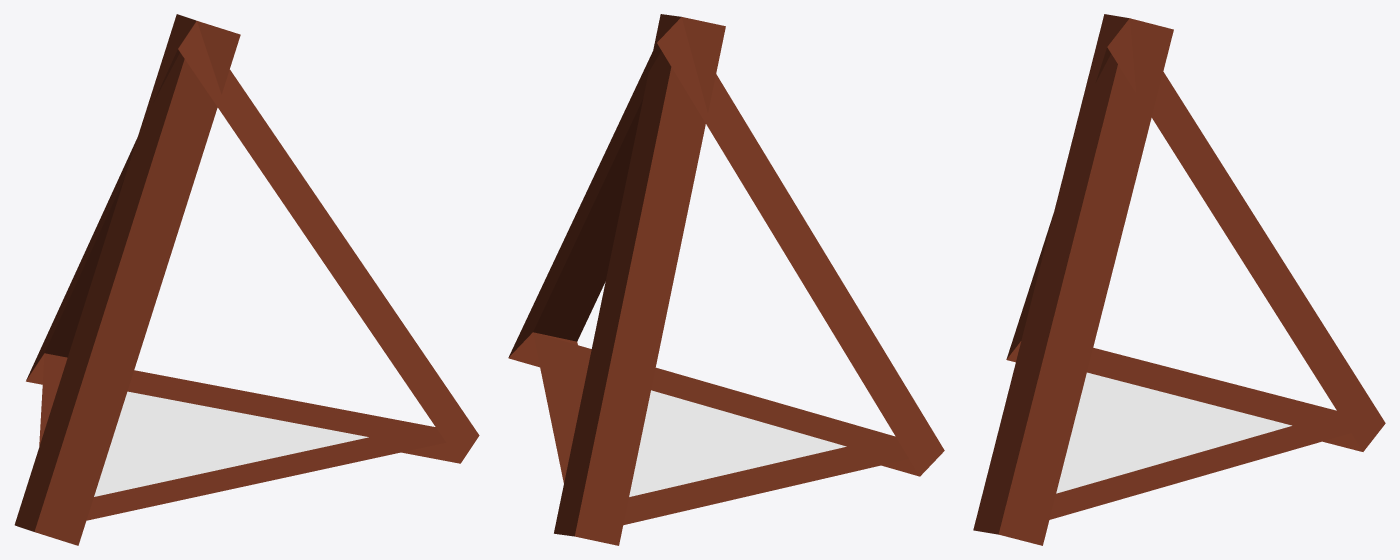
The model's file is jap12.fbx.
The picture shows the model from 3 angles, left to right: view 1: azimuth 30°, elevation 25°; view 2: azimuth 150°, elevation 25°; view 3: azimuth 270°, elevation 25°; orthographic projection.
Parts seen in each view (by area): view 1: Cone; view 2: Cone; view 3: Cone.
Part boxes in pixels (left/top/right/bottom): Cone: left=14, top=14, right=479, bottom=545; Cone: left=508, top=14, right=944, bottom=545; Cone: left=973, top=14, right=1385, bottom=545.
Size of the model in its own units: 764 by 736 by 641.
